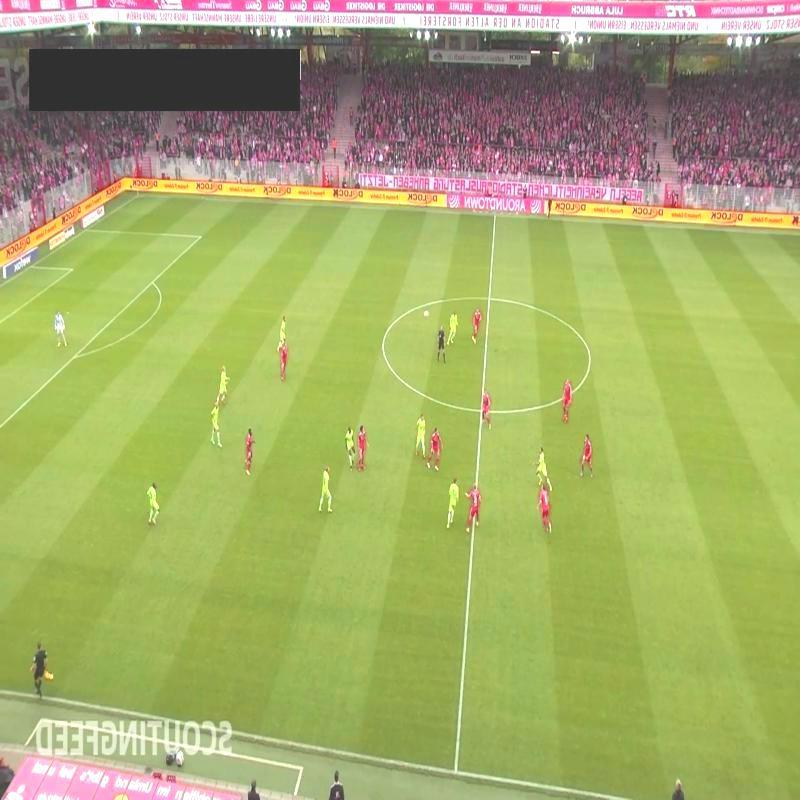1: (131, 188, 145, 202)
10: (145, 276, 160, 290)
11: (68, 350, 82, 364)
13: (488, 208, 502, 222)
14: (482, 292, 496, 306)
15: (474, 404, 489, 418)
16: (448, 762, 464, 780)
2: (78, 223, 92, 237)
3: (24, 259, 38, 273)
7: (65, 262, 79, 276)
9: (195, 230, 209, 244)
c: (377, 332, 391, 345), (584, 352, 597, 366)
